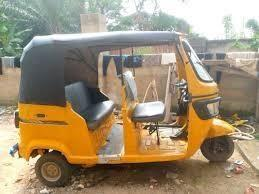keke: (11, 30, 237, 186)
